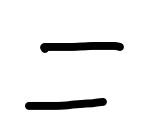eqv: (21, 41, 125, 111)
